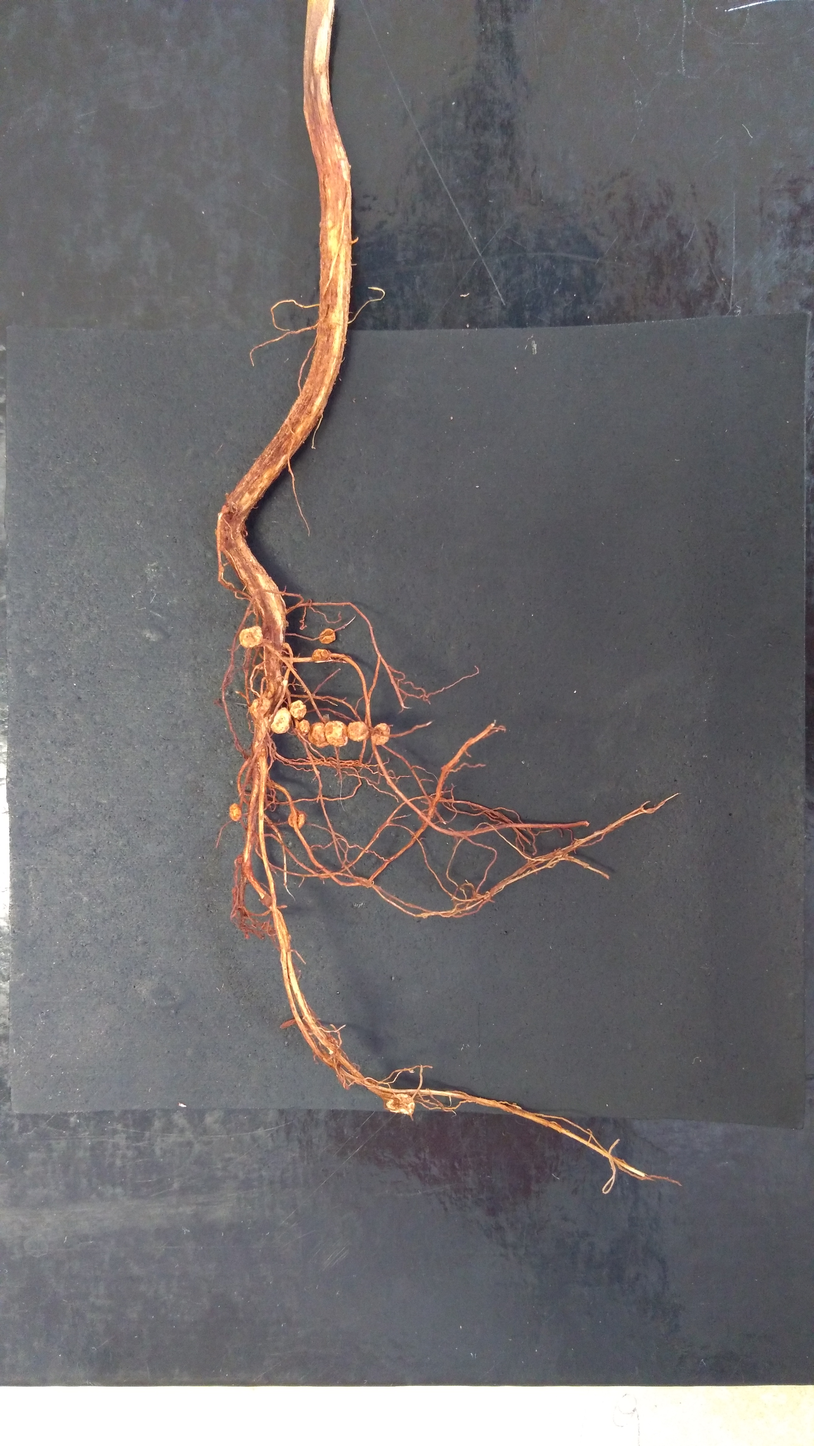nodule: (385, 1092, 416, 1116), (324, 720, 349, 747), (270, 707, 292, 735), (307, 722, 330, 747), (239, 626, 263, 649), (346, 720, 369, 743), (250, 697, 271, 720), (370, 723, 390, 746), (288, 700, 307, 720), (287, 810, 305, 828), (319, 628, 336, 645), (228, 803, 242, 822), (311, 649, 329, 661), (259, 894, 273, 907), (300, 719, 310, 736), (237, 855, 243, 864)
